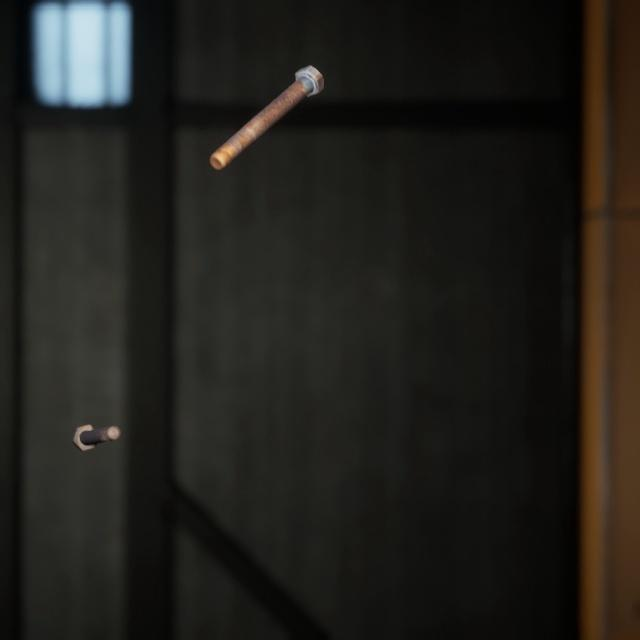bolt: (205, 48, 328, 161), (67, 400, 125, 436)
